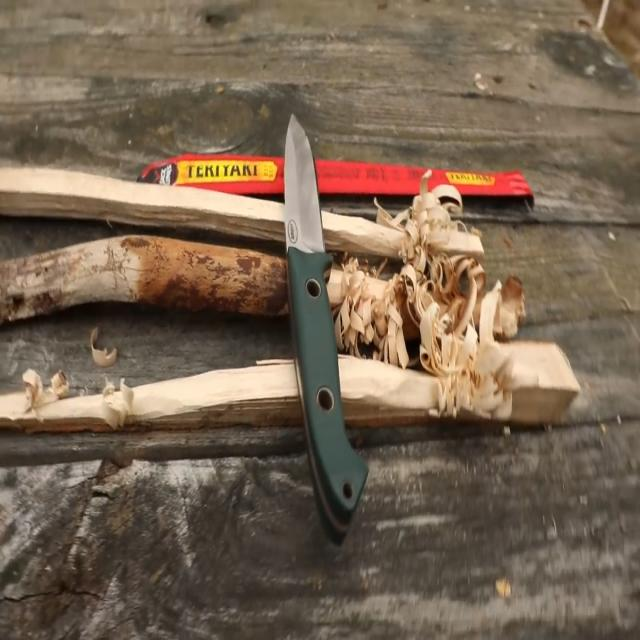knife: (282, 109, 370, 533)
